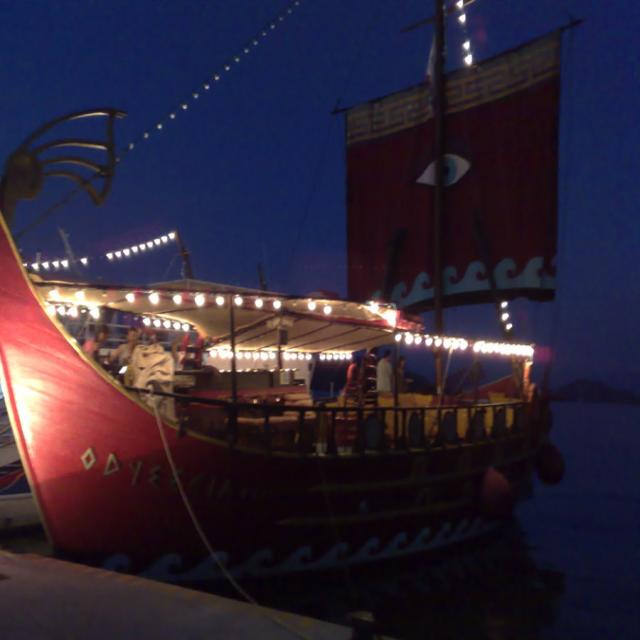Boat: (15, 97, 640, 558)
